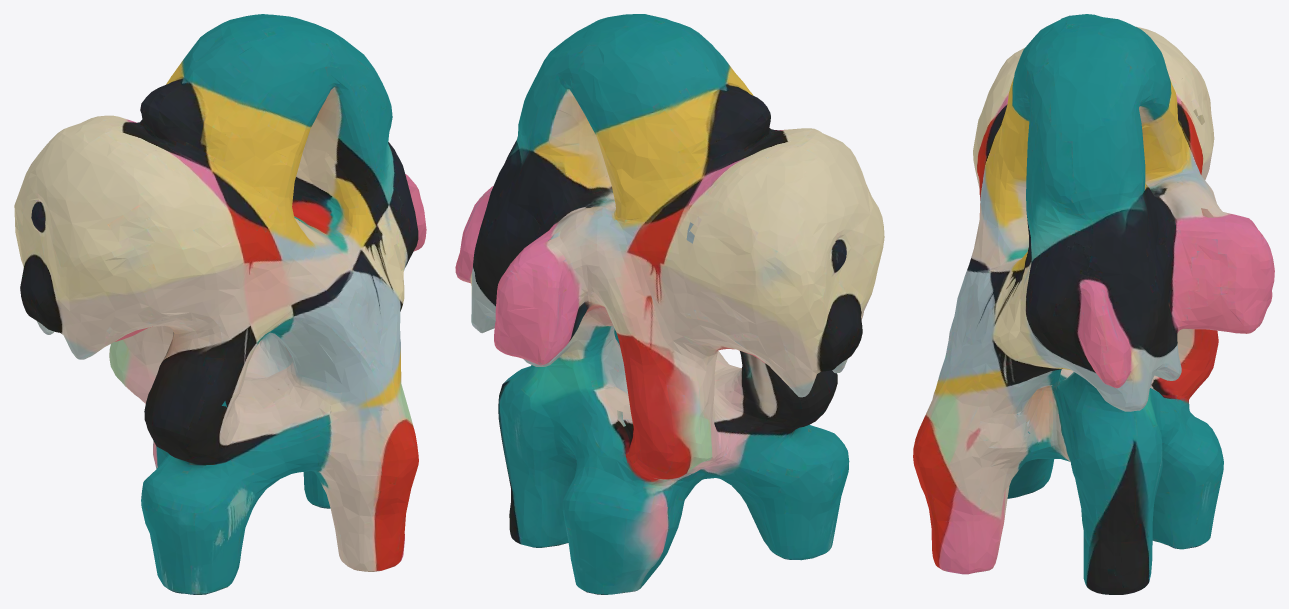
The model's file is escultura.glb.
3 views of the same model, side by side, from view 1: azimuth 30°, elevation 25°; view 2: azimuth 150°, elevation 25°; view 3: azimuth 270°, elevation 25° (orthographic). The views are drawn at different scales.
Visible parts, largest first — view 1: tripo_node_ec36d5df-57af-4107-9570-b9777097b252; view 2: tripo_node_ec36d5df-57af-4107-9570-b9777097b252; view 3: tripo_node_ec36d5df-57af-4107-9570-b9777097b252.
Boxes of the visible parts, x1,y1,x2,y2 form: tripo_node_ec36d5df-57af-4107-9570-b9777097b252: (14,14,426,594); tripo_node_ec36d5df-57af-4107-9570-b9777097b252: (455,14,884,594); tripo_node_ec36d5df-57af-4107-9570-b9777097b252: (913,14,1274,594).
Bounding box in the file's own units: 0.7873 × 0.9799 × 0.6245.
1 material, 1 textured.
